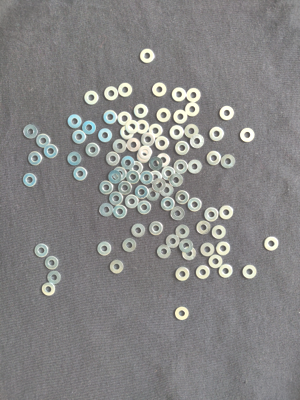circle: (82, 88, 101, 107), (263, 235, 281, 252), (220, 153, 237, 171), (117, 80, 134, 98), (218, 263, 235, 280), (22, 124, 39, 141), (174, 139, 191, 156), (66, 150, 82, 168), (71, 166, 89, 182), (239, 127, 257, 143), (187, 158, 203, 176), (40, 282, 56, 299), (175, 267, 191, 284), (218, 204, 234, 221), (27, 151, 43, 168), (43, 142, 59, 159), (186, 88, 203, 104), (209, 126, 225, 143), (183, 123, 200, 139), (98, 181, 115, 197), (132, 103, 149, 119), (174, 306, 190, 322), (122, 238, 138, 254), (179, 238, 195, 254), (152, 82, 168, 98), (218, 106, 234, 122), (103, 85, 119, 101), (149, 221, 164, 238), (187, 198, 204, 213), (170, 88, 187, 103), (102, 110, 119, 125), (33, 243, 48, 259), (96, 242, 112, 257), (196, 265, 211, 281), (131, 223, 146, 239), (156, 245, 172, 260), (175, 224, 191, 239), (181, 247, 197, 262), (216, 241, 231, 257), (204, 207, 219, 223), (22, 172, 37, 188), (160, 197, 176, 212), (156, 108, 172, 123), (170, 125, 185, 141), (125, 194, 140, 210), (97, 128, 113, 143), (127, 138, 143, 153), (108, 260, 125, 274), (195, 221, 212, 235), (212, 225, 227, 240), (206, 151, 221, 166), (190, 134, 205, 149), (149, 157, 164, 172), (118, 181, 133, 196), (72, 130, 87, 145), (155, 136, 170, 151), (44, 256, 60, 270), (243, 265, 257, 281), (166, 233, 180, 249), (175, 191, 191, 205), (174, 159, 188, 175), (108, 192, 124, 206), (108, 169, 122, 185), (68, 113, 82, 129), (140, 133, 156, 147), (149, 123, 163, 139), (170, 207, 185, 221), (140, 50, 155, 64), (186, 103, 201, 117), (163, 167, 177, 182), (138, 200, 152, 215), (157, 153, 171, 168), (100, 203, 114, 218), (113, 166, 127, 181), (120, 156, 135, 170), (105, 152, 120, 166), (86, 143, 100, 158), (113, 139, 127, 154), (138, 146, 153, 160), (125, 120, 140, 134), (118, 111, 132, 126), (136, 120, 150, 135), (128, 162, 144, 175), (83, 120, 96, 136), (47, 271, 61, 285), (209, 255, 223, 269), (201, 243, 215, 257), (36, 134, 50, 148), (174, 110, 188, 124), (160, 183, 174, 197), (140, 171, 154, 185), (135, 185, 149, 199), (137, 150, 151, 164), (120, 126, 134, 140), (169, 174, 184, 187), (125, 171, 140, 184), (153, 179, 166, 193), (147, 187, 160, 201), (150, 172, 163, 186), (114, 205, 126, 220)
